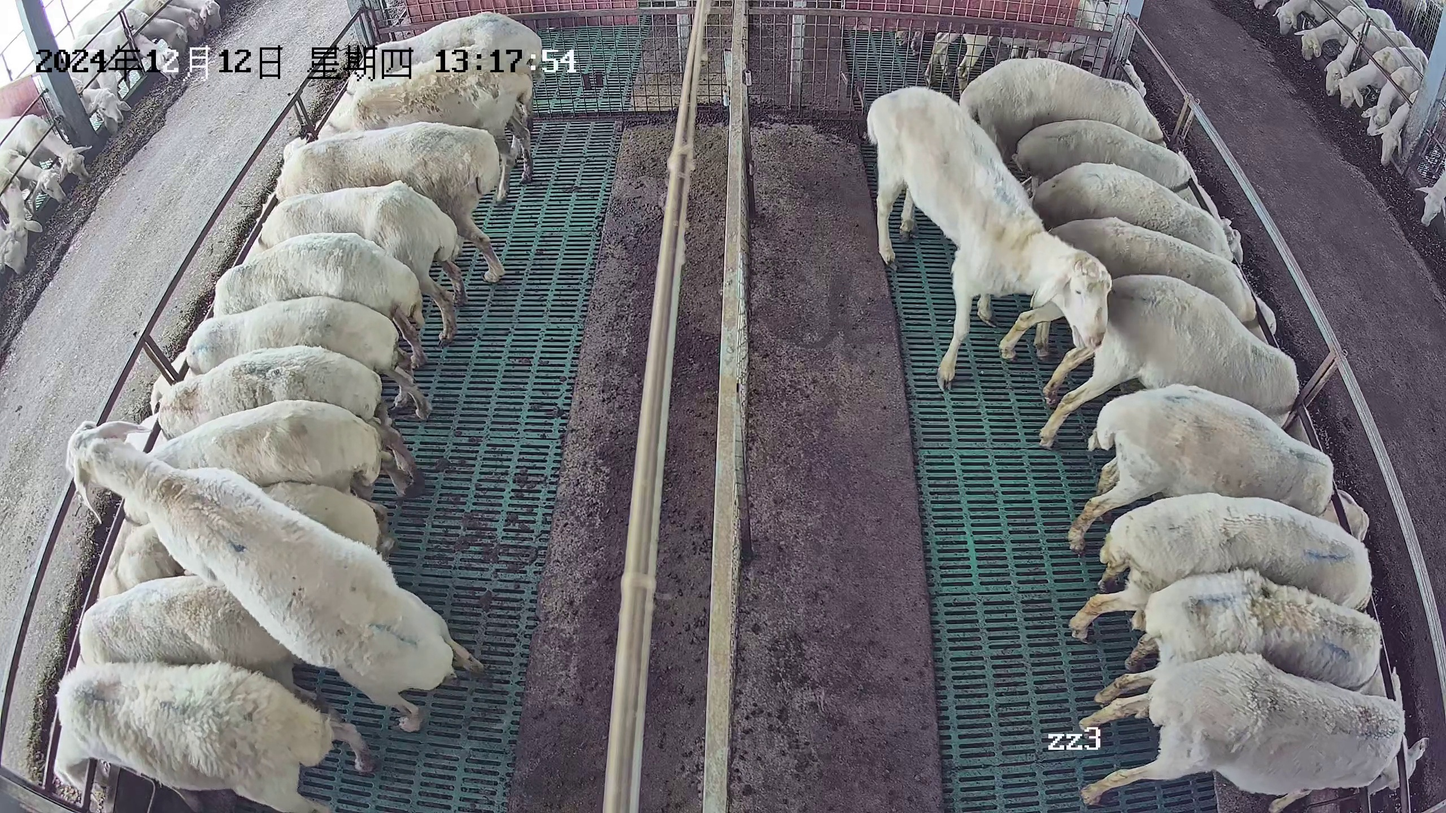Nmounting: (61, 415, 484, 729)
